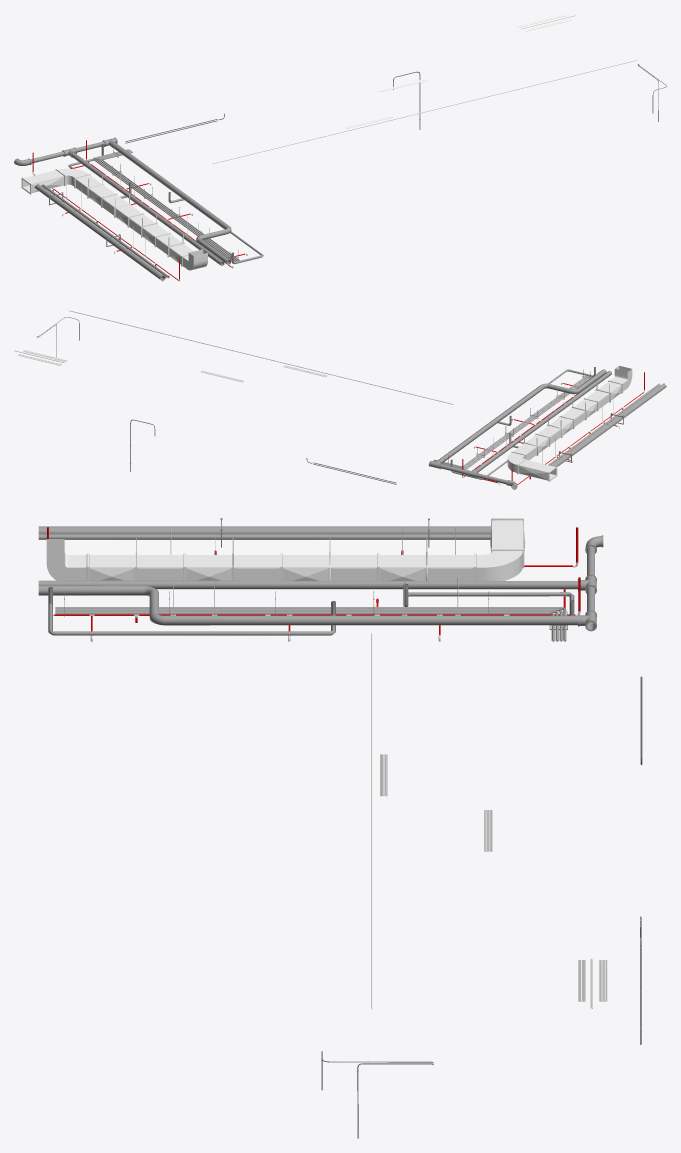
The picture shows the model from 3 angles, top to bottom: view 1: azimuth 30°, elevation 25°; view 2: azimuth 150°, elevation 25°; view 3: azimuth 270°, elevation 25°; orthographic projection. The views are drawn at different scales.
Parts seen in each view (by area): view 1: SM_H_Building_FutureTech_HOrange_01_InterWall_08B; view 2: SM_H_Building_FutureTech_HOrange_01_InterWall_08B; view 3: SM_H_Building_FutureTech_HOrange_01_InterWall_08B.
Boxes of the visible parts, x1,y1,x2,y2 form: SM_H_Building_FutureTech_HOrange_01_InterWall_08B: [14, 14, 666, 281]; SM_H_Building_FutureTech_HOrange_01_InterWall_08B: [14, 310, 666, 489]; SM_H_Building_FutureTech_HOrange_01_InterWall_08B: [38, 518, 642, 1138].
Size of the model in its own units: 673 by 1377 by 200.
